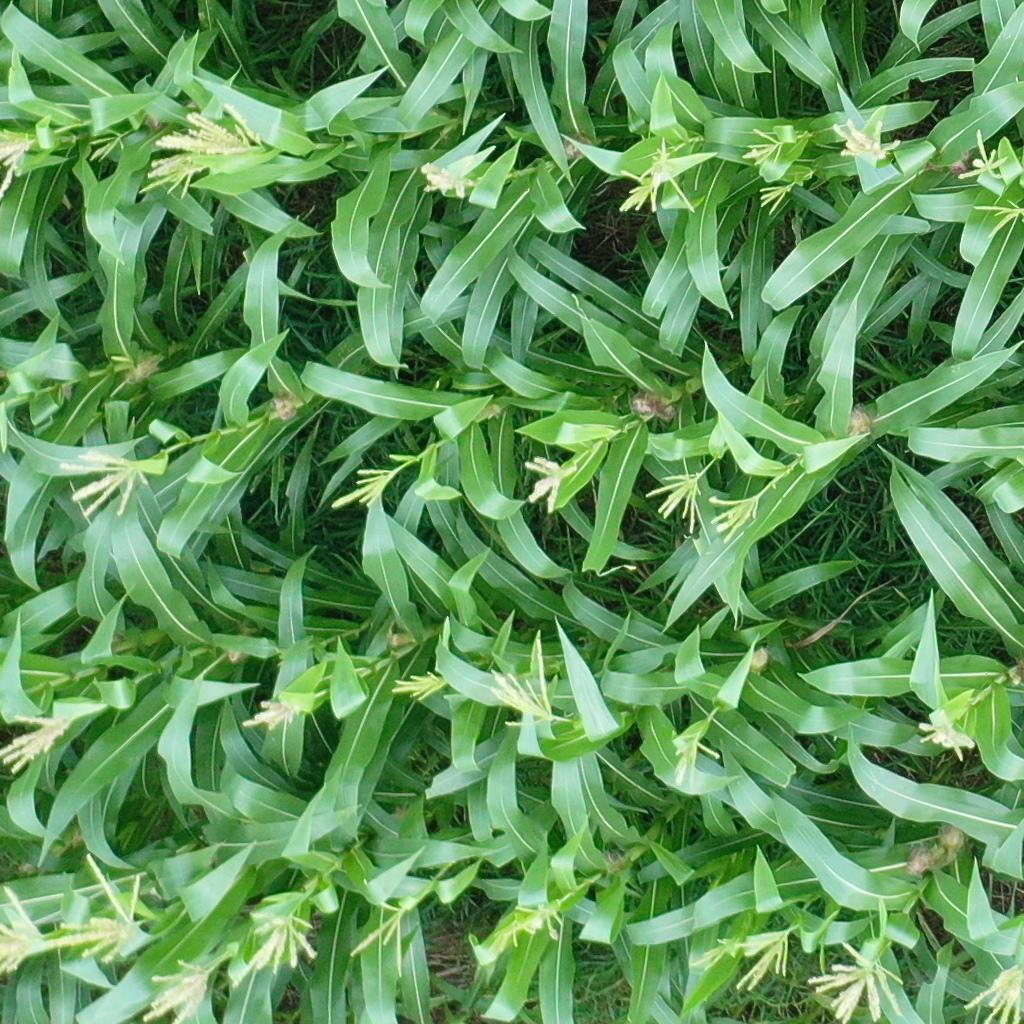Tassel: (136, 102, 268, 199), (65, 851, 147, 966), (807, 936, 907, 1024), (483, 633, 562, 733), (231, 907, 320, 993), (622, 133, 697, 220), (52, 445, 140, 517), (142, 954, 219, 1024), (350, 900, 421, 972), (1, 882, 53, 974), (731, 923, 795, 996), (1, 713, 69, 780), (637, 471, 706, 534), (666, 725, 731, 789), (492, 906, 577, 952), (962, 961, 1024, 1024), (831, 115, 901, 167), (1, 126, 46, 205), (325, 466, 398, 509), (516, 455, 568, 515), (916, 711, 975, 761), (959, 123, 1007, 181), (708, 494, 765, 541), (416, 159, 476, 201), (966, 194, 1024, 237), (241, 695, 300, 734), (386, 661, 441, 700), (736, 124, 782, 169), (688, 933, 736, 973), (82, 128, 126, 165), (756, 183, 795, 218)
